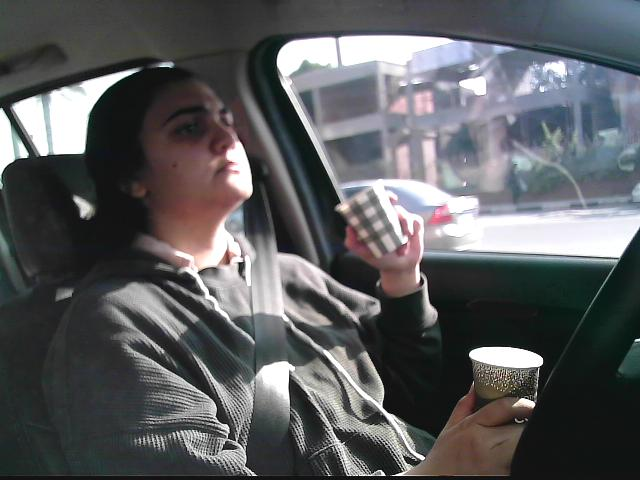Drinking: (463, 340, 542, 474), (331, 178, 411, 261)
